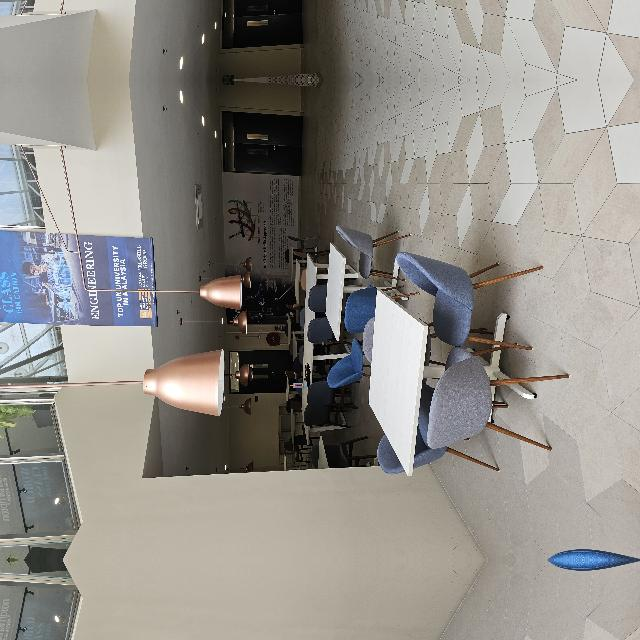obstacle: (93, 457, 312, 640), (93, 475, 312, 640), (171, 392, 333, 460)
